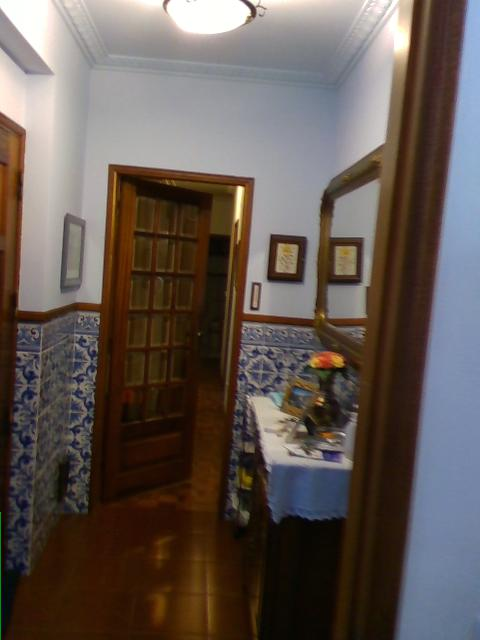semi_door: (87, 161, 254, 523)
